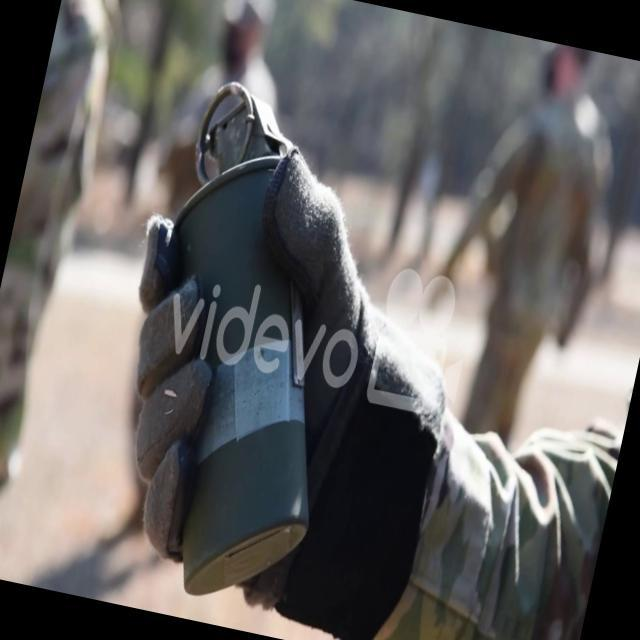grenade: (89, 73, 392, 606)
